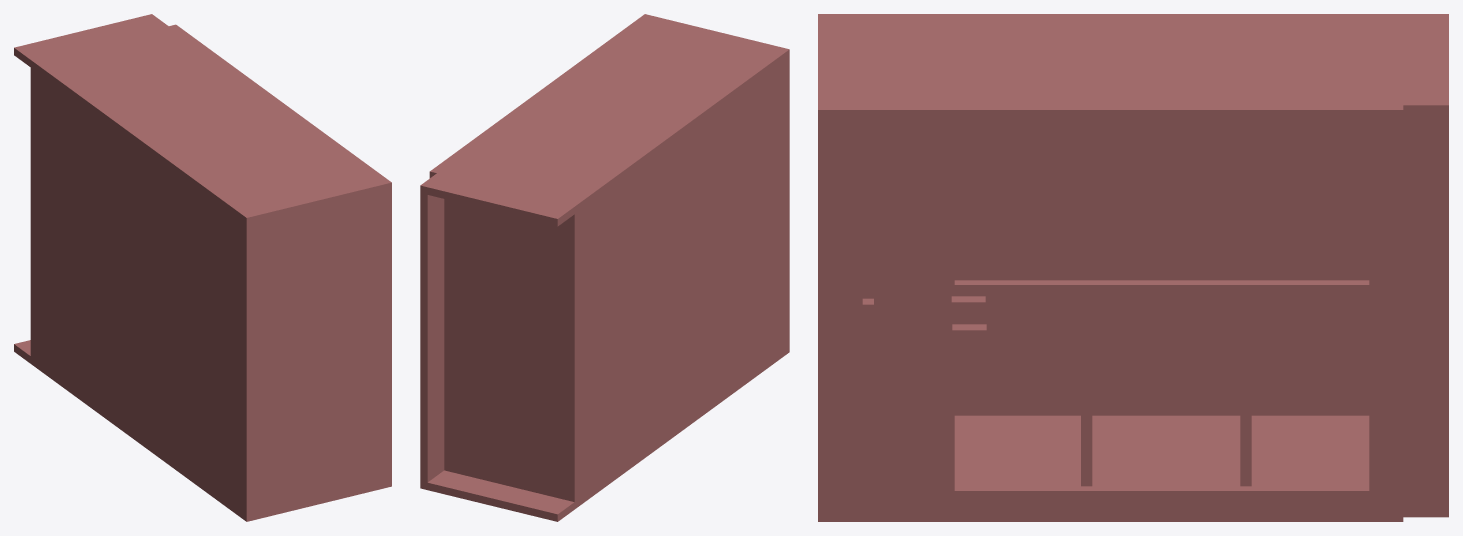
Rendered from shortdolap piv cor .fbx.
3 renders of one model, left to right at view 1: azimuth 30°, elevation 25°; view 2: azimuth 150°, elevation 25°; view 3: azimuth 270°, elevation 25°, orthographic. The views are drawn at different scales.
Visible parts, largest first — view 1: Object_1499, dolap 01; view 2: Object_1499, dolap 01; view 3: Object_1499, dolap 01, Object_1406.
Part boxes in pixels (left/top/right/bottom): Object_1499: left=14, top=14, right=391, bottom=521; dolap 01: left=169, top=24, right=353, bottom=156; Object_1499: left=420, top=14, right=789, bottom=521; dolap 01: left=429, top=41, right=613, bottom=178; Object_1499: left=818, top=14, right=1448, bottom=521; dolap 01: left=920, top=105, right=1403, bottom=521; Object_1406: left=835, top=105, right=920, bottom=521.
Bounding box in the file's own units: 42.5 × 80 × 111.
